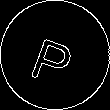P_N: (29, 25, 81, 85)
